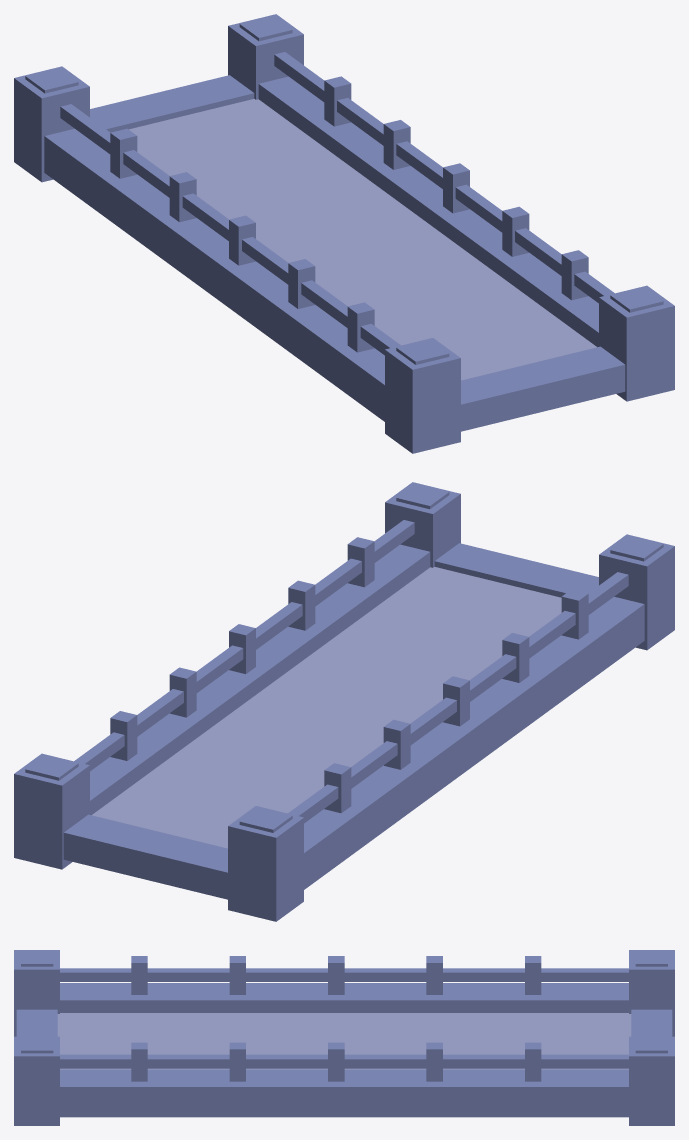
Rendered from bridge_1b_1.fbx.
3 views of the same model, one above another, from view 1: azimuth 30°, elevation 25°; view 2: azimuth 150°, elevation 25°; view 3: azimuth 270°, elevation 25° (orthographic). The views are drawn at different scales.
Parts seen in each view (by area): view 1: bridge_1b_1; view 2: bridge_1b_1; view 3: bridge_1b_1.
Boxes of the visible parts, x1,y1,x2,y2 form: bridge_1b_1: (14, 14, 674, 453); bridge_1b_1: (14, 482, 674, 921); bridge_1b_1: (14, 950, 674, 1125).
Size of the model in its own units: 9.8 by 3.12 by 25.8.
